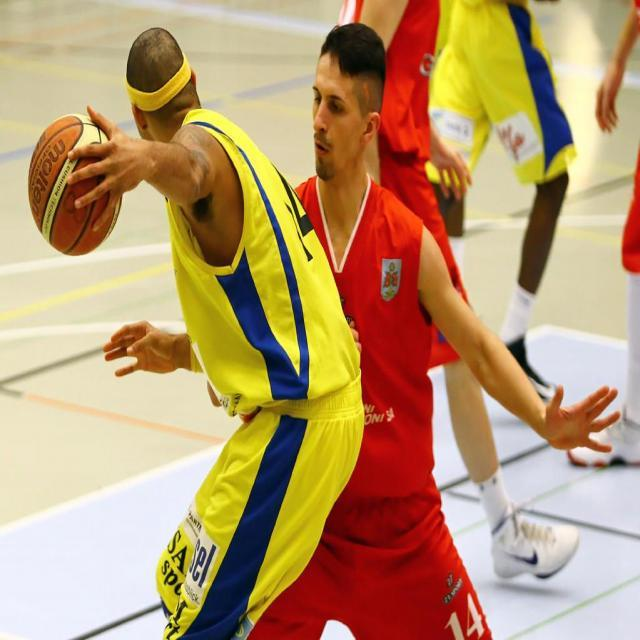rim: (28, 112, 123, 256)
